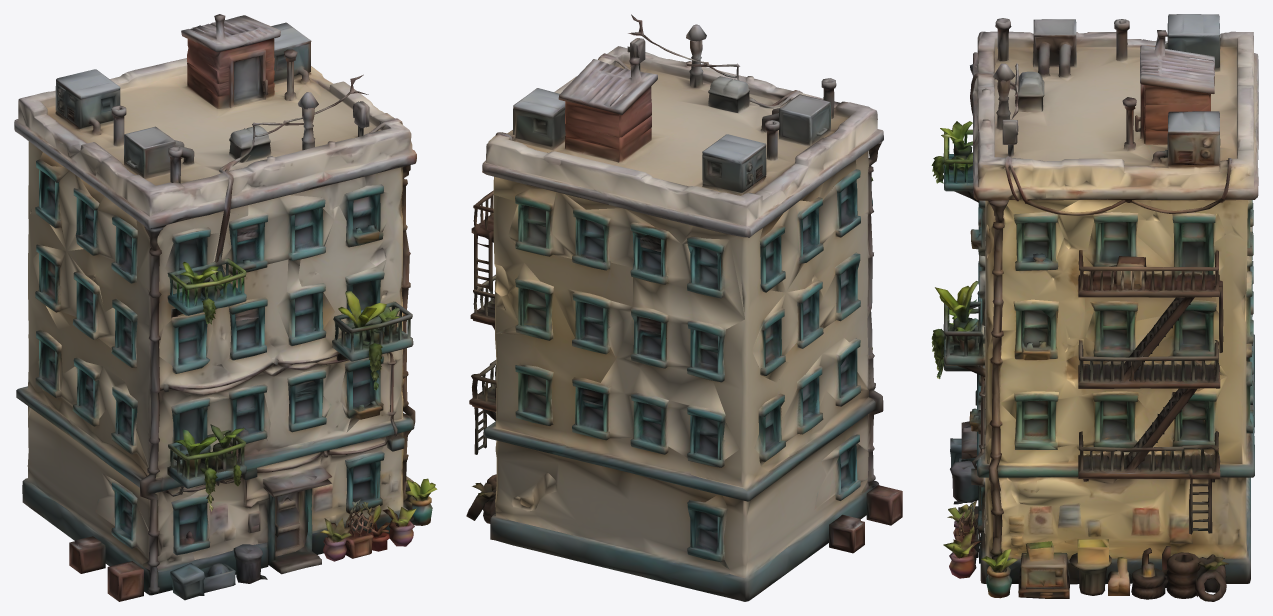
File: apartment_cream_2.glb
The picture shows the model from 3 angles, left to right: view 1: azimuth 30°, elevation 25°; view 2: azimuth 150°, elevation 25°; view 3: azimuth 270°, elevation 25°; orthographic projection. The views are drawn at different scales.
Visible parts, largest first — view 1: tripo_part_0, tripo_part_1, tripo_part_12, tripo_part_15, tripo_part_11, tripo_part_13, tripo_part_21, tripo_part_9, tripo_part_8, tripo_part_6, tripo_part_52, tripo_part_7 (+18 smaller); view 2: tripo_part_0, tripo_part_1, tripo_part_2, tripo_part_15, tripo_part_11, tripo_part_13, tripo_part_4, tripo_part_33, tripo_part_43, tripo_part_29, tripo_part_40, tripo_part_53 (+2 smaller); view 3: tripo_part_0, tripo_part_1, tripo_part_4, tripo_part_18, tripo_part_14, tripo_part_3, tripo_part_38, tripo_part_10, tripo_part_24, tripo_part_23, tripo_part_44, tripo_part_45 (+16 smaller).
Boxes of the visible parts, x1=… form: tripo_part_0: x1=16, y1=141, x2=415, y2=595; tripo_part_1: x1=14, y1=14, x2=416, y2=229; tripo_part_12: x1=222, y1=195, x2=334, y2=345; tripo_part_15: x1=35, y1=159, x2=137, y2=283; tripo_part_11: x1=32, y1=244, x2=137, y2=367; tripo_part_13: x1=35, y1=330, x2=148, y2=467; tripo_part_21: x1=171, y1=384, x2=270, y2=460; tripo_part_9: x1=167, y1=253, x2=246, y2=318; tripo_part_8: x1=332, y1=301, x2=413, y2=361; tripo_part_6: x1=320, y1=499, x2=390, y2=561; tripo_part_52: x1=159, y1=312, x2=213, y2=373; tripo_part_7: x1=167, y1=430, x2=246, y2=488; tripo_part_0: x1=484, y1=143, x2=883, y2=601; tripo_part_1: x1=482, y1=24, x2=883, y2=243; tripo_part_2: x1=508, y1=188, x2=744, y2=467; tripo_part_15: x1=759, y1=169, x2=860, y2=292; tripo_part_11: x1=752, y1=252, x2=860, y2=382; tripo_part_13: x1=754, y1=338, x2=867, y2=466; tripo_part_4: x1=469, y1=190, x2=496, y2=454; tripo_part_33: x1=496, y1=263, x2=553, y2=340; tripo_part_43: x1=814, y1=434, x2=868, y2=509; tripo_part_29: x1=687, y1=494, x2=729, y2=569; tripo_part_40: x1=515, y1=365, x2=553, y2=425; tripo_part_53: x1=866, y1=485, x2=902, y2=525; tripo_part_0: x1=950, y1=64, x2=1254, y2=584; tripo_part_1: x1=970, y1=14, x2=1258, y2=214; tripo_part_4: x1=1076, y1=250, x2=1226, y2=534; tripo_part_18: x1=1000, y1=391, x2=1155, y2=449; tripo_part_14: x1=1085, y1=299, x2=1224, y2=364; tripo_part_3: x1=1131, y1=546, x2=1228, y2=601; tripo_part_38: x1=1083, y1=212, x2=1170, y2=271; tripo_part_10: x1=1018, y1=541, x2=1070, y2=598; tripo_part_24: x1=1013, y1=212, x2=1063, y2=270; tripo_part_23: x1=1013, y1=299, x2=1058, y2=360; tripo_part_44: x1=1172, y1=212, x2=1225, y2=280; tripo_part_45: x1=1169, y1=376, x2=1227, y2=449.
Size of the model in its own units: 0.7052 by 0.9781 by 0.5805.
Materials: 1 (1 with a texture image).
